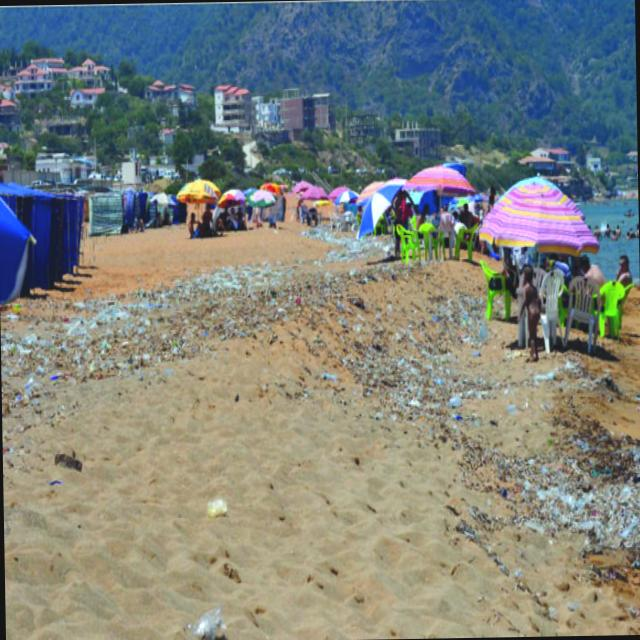garbage: (7, 250, 279, 380), (310, 295, 504, 427), (519, 418, 640, 556)
